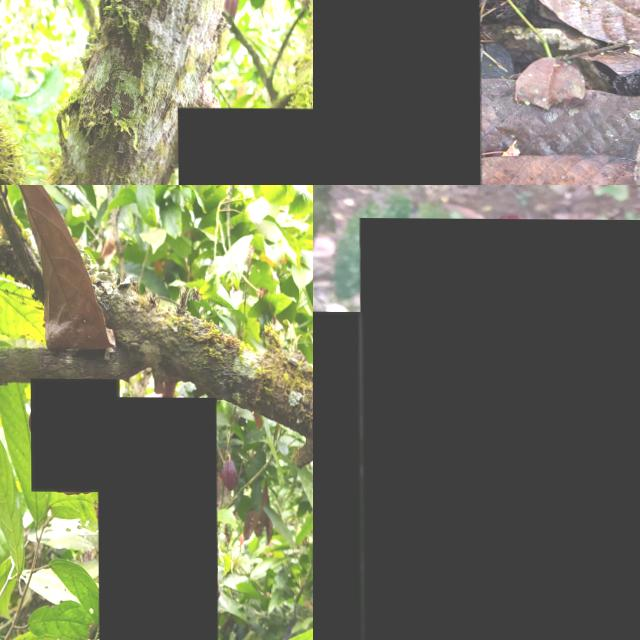Fitoftora: (313, 0, 481, 185), (97, 396, 217, 640), (30, 378, 120, 492)
Sana: (359, 218, 640, 640)
